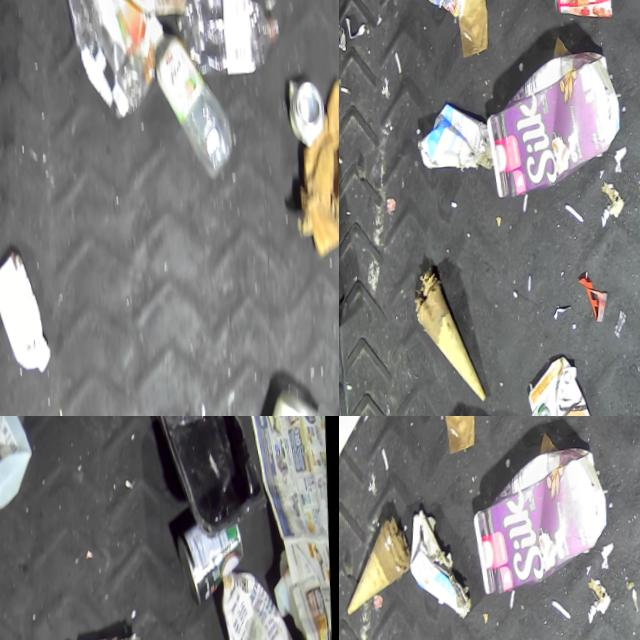can: (173, 519, 249, 612), (284, 74, 329, 147), (547, 0, 616, 23), (409, 0, 480, 21)
milk_jug: (0, 416, 38, 518)
non_white_jug: (483, 45, 626, 200), (218, 568, 313, 640), (528, 351, 607, 416)
plastic_bottle: (40, 0, 164, 125), (176, 0, 283, 78)
